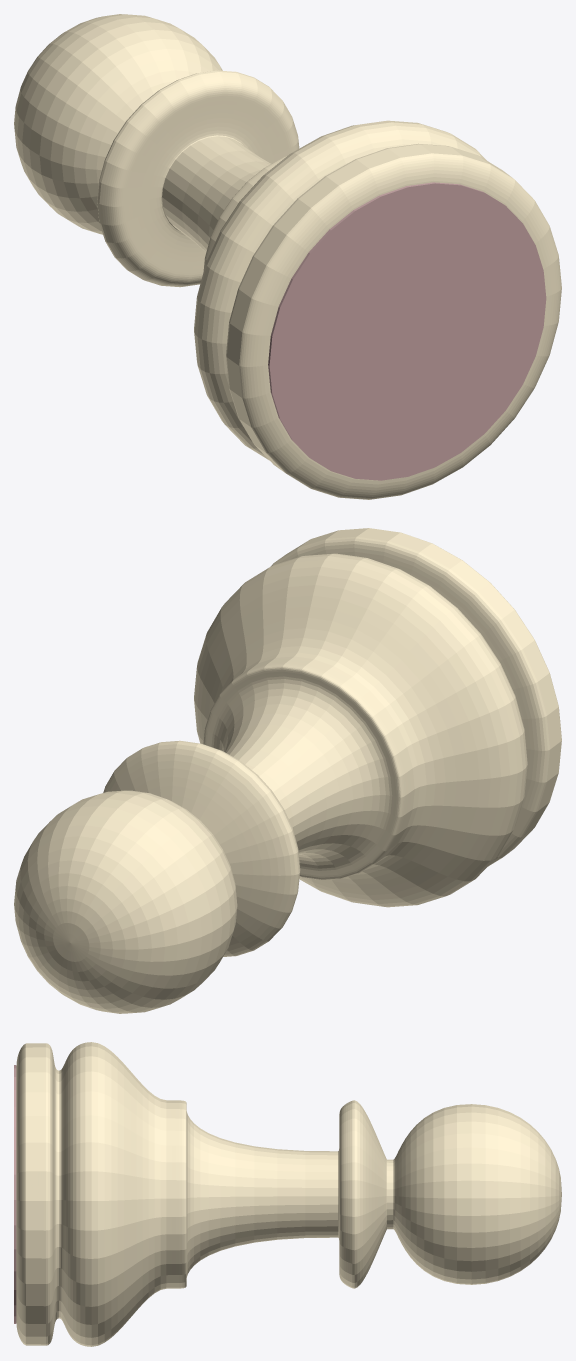
Rendered from pawn.glb.
The picture shows the model from 3 angles, top to bottom: view 1: azimuth 30°, elevation 25°; view 2: azimuth 150°, elevation 25°; view 3: azimuth 270°, elevation 25°; orthographic projection. The views are drawn at different scales.
Parts seen in each view (by area): view 1: Pawn_Plastic_0, Pawn_Velvet_0; view 2: Pawn_Plastic_0; view 3: Pawn_Plastic_0, Pawn_Velvet_0.
Boxes of the visible parts, x1,y1,x2,y2 form: Pawn_Plastic_0: [14, 14, 561, 499]; Pawn_Velvet_0: [268, 182, 546, 480]; Pawn_Plastic_0: [14, 528, 561, 1013]; Pawn_Plastic_0: [16, 1042, 561, 1346]; Pawn_Velvet_0: [14, 1065, 16, 1323].
Size of the model in its own units: 0.0229 by 0.0229 by 0.0412.
